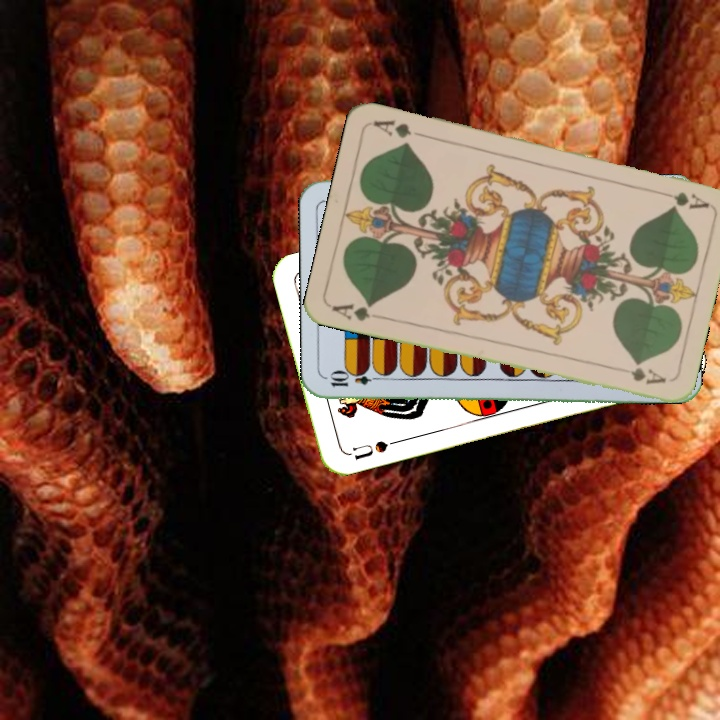E10: (326, 371, 385, 389)
GA: (328, 299, 387, 324), (652, 187, 711, 212)
SU: (343, 436, 402, 463)
